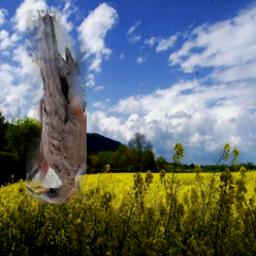Cuckoo: (25, 11, 86, 205)
